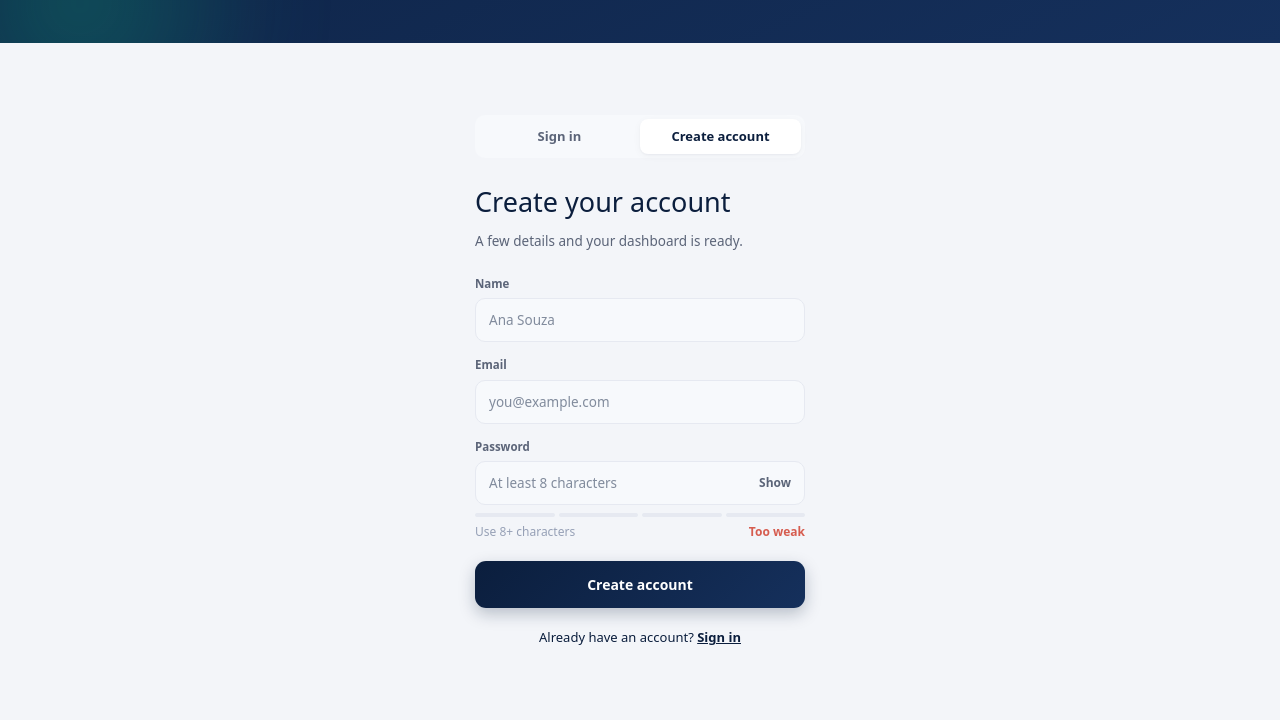
Test: AuthScreen mode switching › the switch line switches back to Sign in and replaces the URL with /login
(page scrolled)
Click the button "Sign in" next to "Already have an account?" at (719, 638), box [697, 628, 741, 648]
(page scrolled)
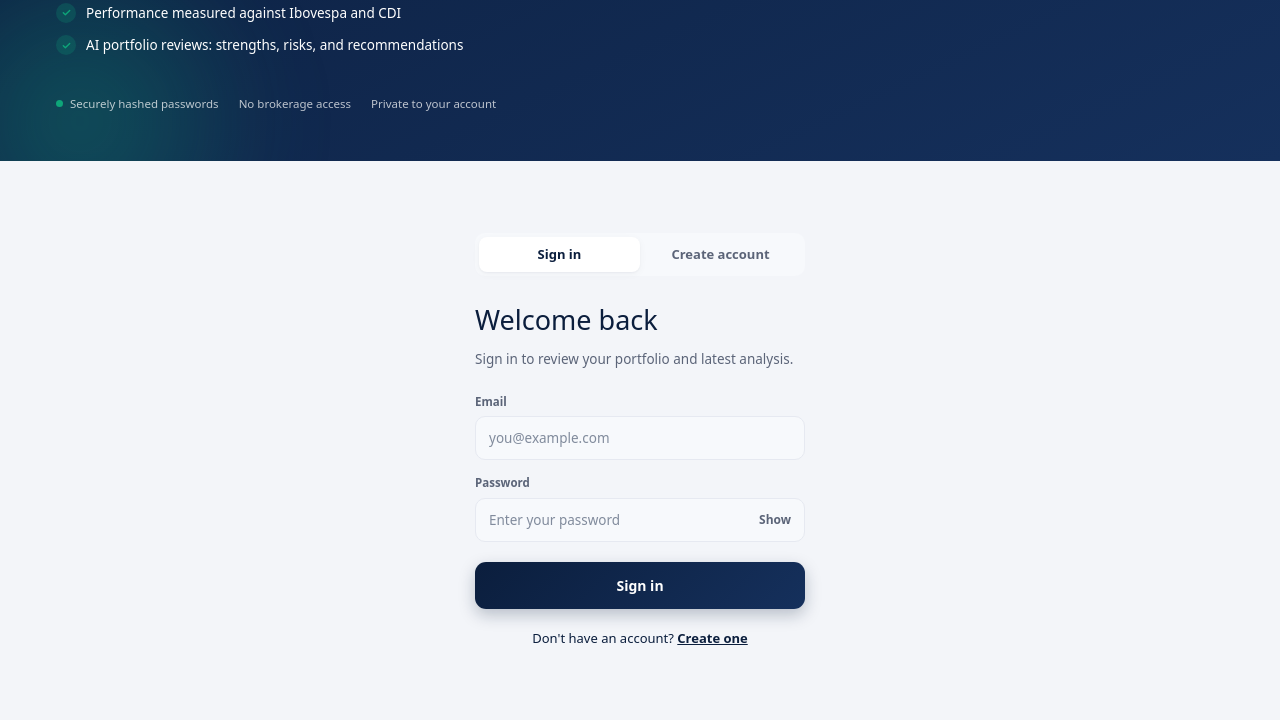
Result: the heading "Welcome back" is shown at [475, 301, 658, 338]
